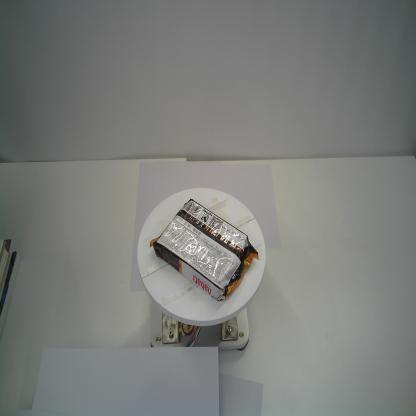Dessert: (148, 196, 260, 303)
